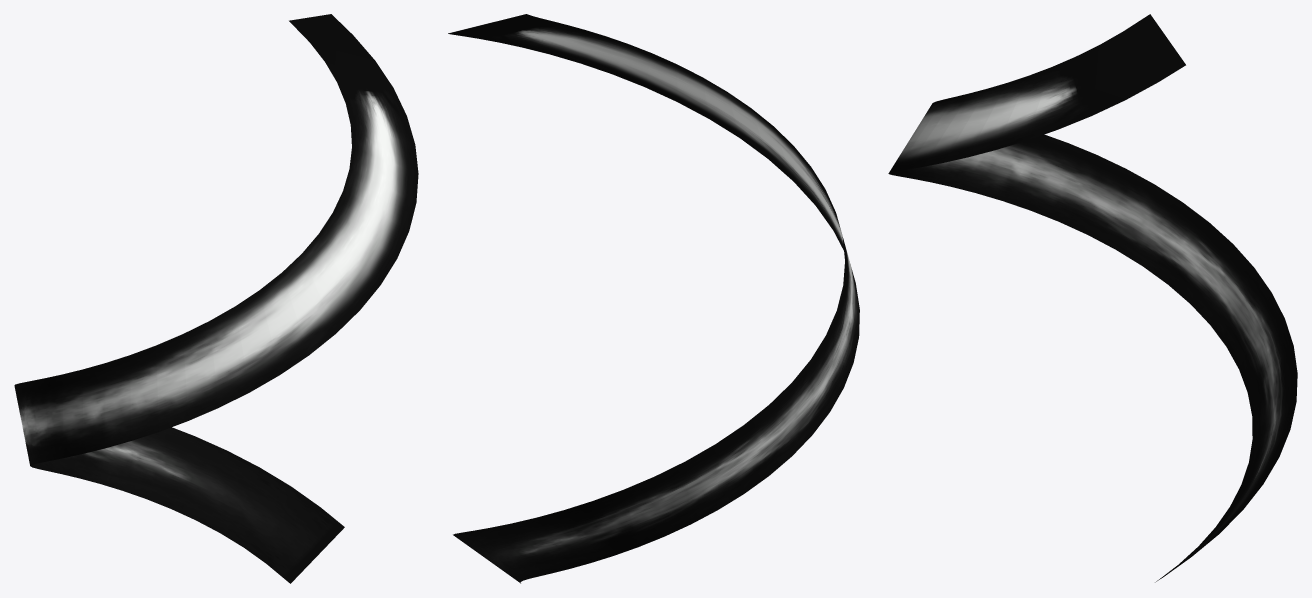
File: luoxuandai02.FBX
The picture shows the model from 3 angles, left to right: view 1: azimuth 30°, elevation 25°; view 2: azimuth 150°, elevation 25°; view 3: azimuth 270°, elevation 25°; orthographic projection.
Parts seen in each view (by area): view 1: luoxuandai001; view 2: luoxuandai001; view 3: luoxuandai001.
Boxes of the visible parts, x1=… form: luoxuandai001: x1=14, y1=14, x2=418, y2=583; luoxuandai001: x1=448, y1=14, x2=859, y2=583; luoxuandai001: x1=888, y1=14, x2=1297, y2=582.
Size of the model in its own units: 47.97 by 74.76 by 48.81.
